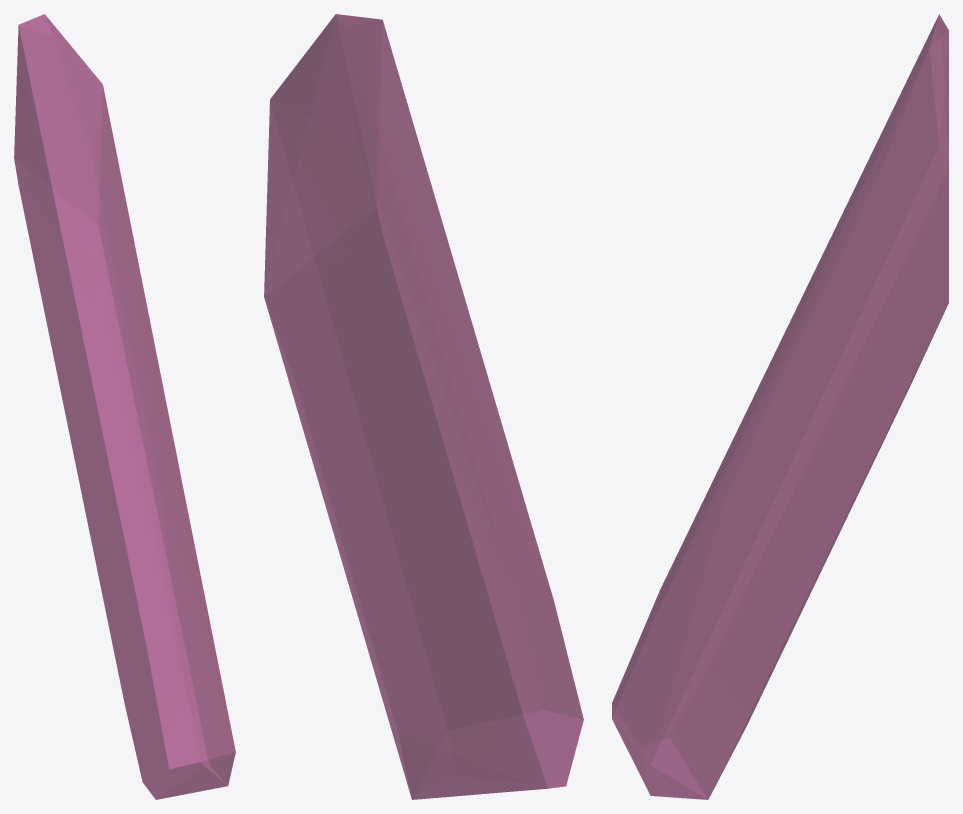
3 views of the same model, side by side, from view 1: azimuth 30°, elevation 25°; view 2: azimuth 150°, elevation 25°; view 3: azimuth 270°, elevation 25° (orthographic). The views are drawn at different scales.
Parts seen in each view (by area): view 1: Shape_IndexedFaceSet.007_Shape_IndexedFaceSet.7758; view 2: Shape_IndexedFaceSet.007_Shape_IndexedFaceSet.7758; view 3: Shape_IndexedFaceSet.007_Shape_IndexedFaceSet.7758.
Boxes of the visible parts, x1,y1,x2,y2 form: Shape_IndexedFaceSet.007_Shape_IndexedFaceSet.7758: [14, 14, 235, 799]; Shape_IndexedFaceSet.007_Shape_IndexedFaceSet.7758: [264, 14, 583, 799]; Shape_IndexedFaceSet.007_Shape_IndexedFaceSet.7758: [612, 14, 948, 799].
Size of the model in its own units: 0.015 by 0.116 by 0.0478.
